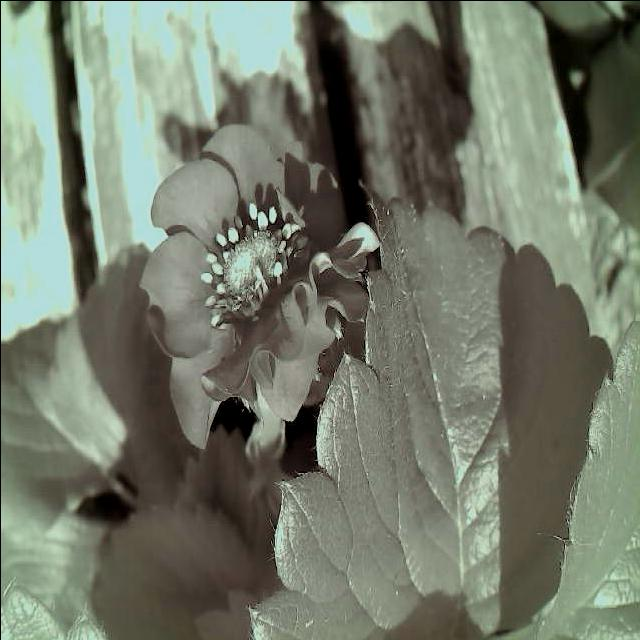flower: (139, 110, 377, 453)
